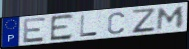C: (106, 11, 126, 35)
E: (49, 13, 75, 43), (22, 16, 48, 44)
L: (79, 14, 100, 38)
M: (155, 6, 186, 32)
Z: (130, 7, 157, 34)
